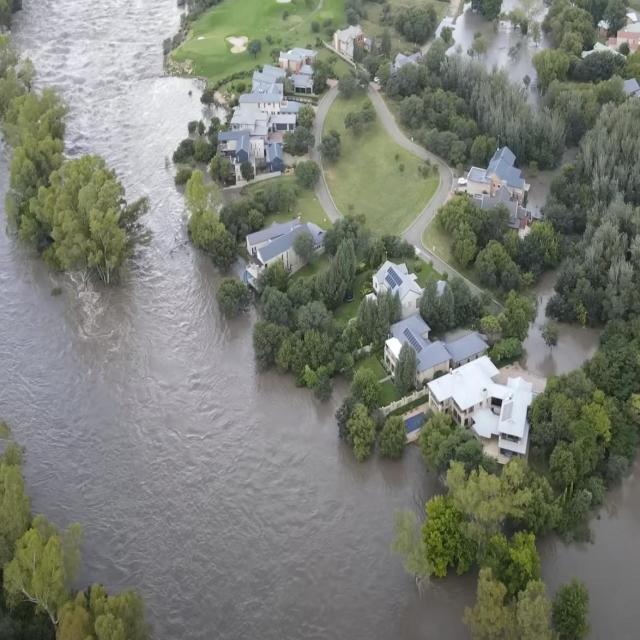flood: (0, 0, 476, 639), (542, 461, 640, 637), (454, 3, 549, 105), (521, 267, 602, 376), (524, 163, 559, 213)
house: (428, 355, 502, 439), (464, 142, 531, 229), (244, 218, 322, 283), (226, 88, 304, 141), (217, 127, 285, 182), (384, 314, 436, 380), (498, 371, 535, 460), (371, 260, 424, 319), (449, 326, 488, 373), (332, 23, 367, 64), (279, 47, 319, 79), (616, 17, 640, 55)
